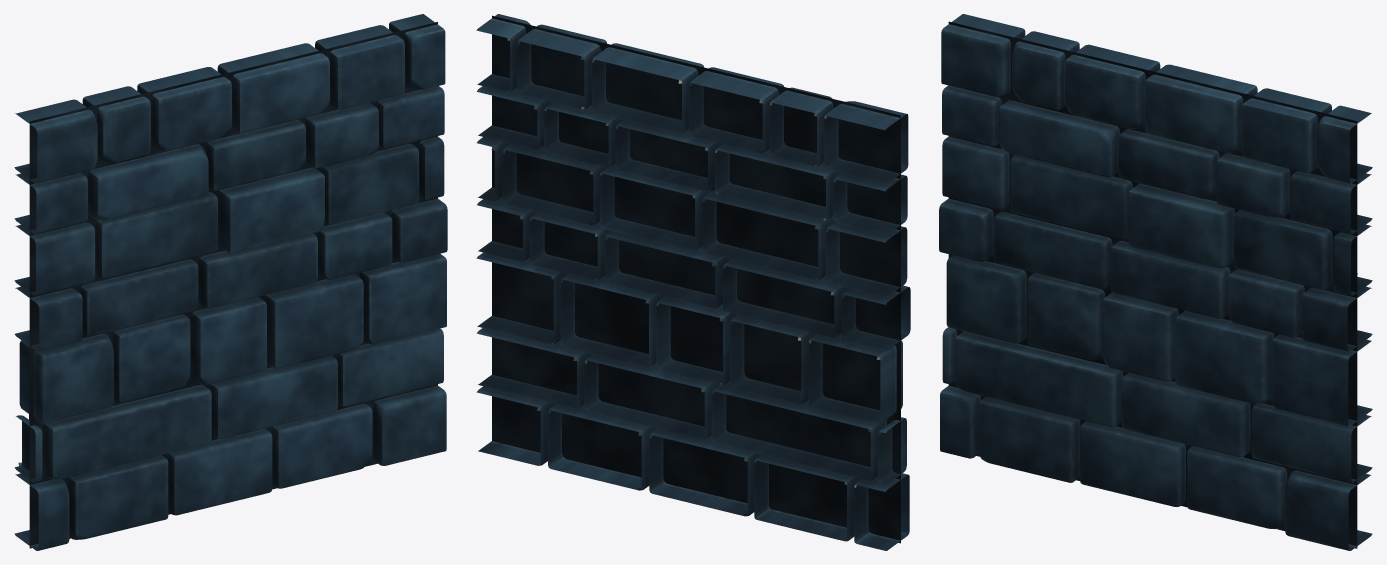
Rendered from ENV_BackWall.fbx.
The picture shows the model from 3 angles, left to right: view 1: azimuth 30°, elevation 25°; view 2: azimuth 150°, elevation 25°; view 3: azimuth 330°, elevation 25°; orthographic projection.
Visible parts, largest first — view 1: ENV_BackWall; view 2: ENV_BackWall; view 3: ENV_BackWall.
Part boxes in pixels (left/top/right/bottom): ENV_BackWall: left=14, top=14, right=447, bottom=550; ENV_BackWall: left=476, top=14, right=910, bottom=550; ENV_BackWall: left=939, top=14, right=1372, bottom=550.
Bounding box in the file's own units: 4 × 4 × 0.4583.
